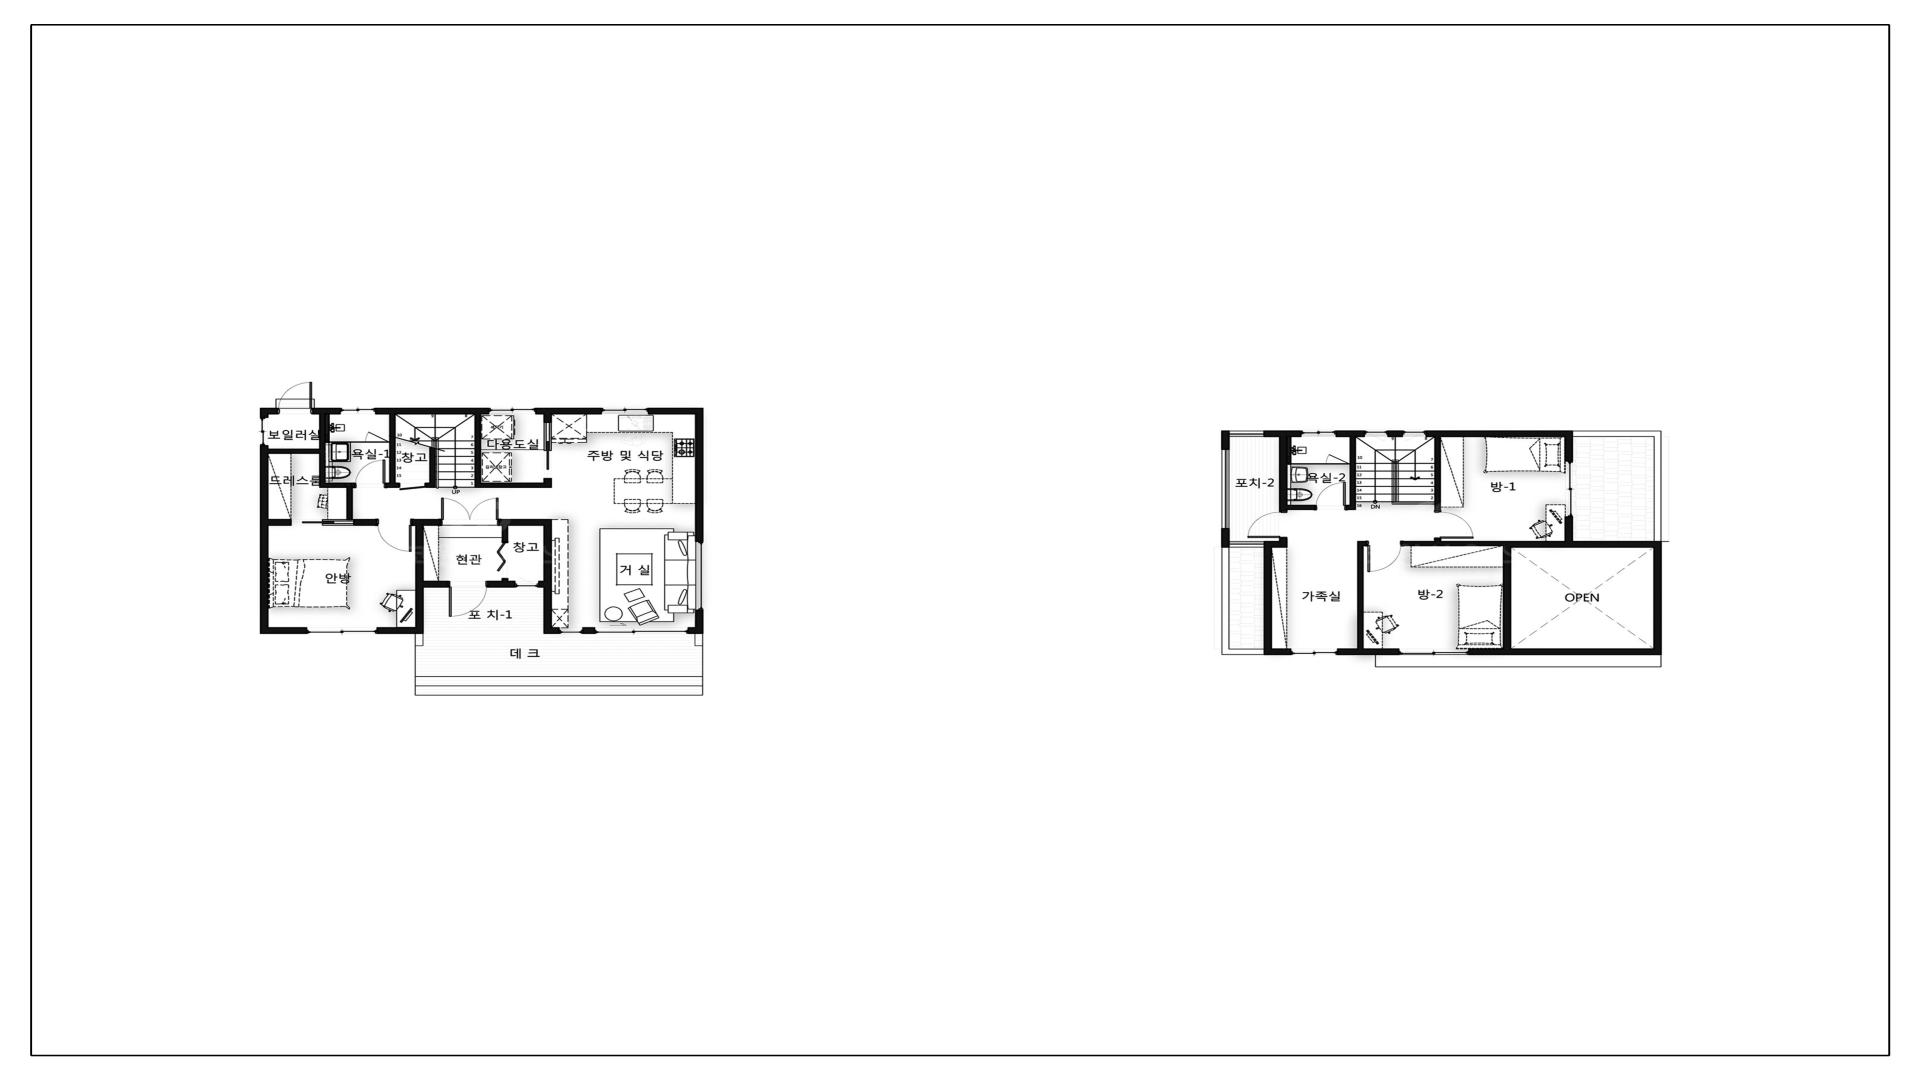door: (441, 497, 499, 526), (448, 581, 488, 617), (376, 519, 412, 552), (1434, 510, 1474, 539), (277, 382, 313, 414), (1367, 541, 1402, 572), (1247, 511, 1287, 538), (355, 459, 386, 488), (1315, 482, 1346, 510), (543, 423, 552, 478), (292, 519, 355, 526), (496, 542, 508, 578), (365, 432, 389, 443), (1326, 454, 1350, 464)
wall: (260, 445, 307, 634), (1503, 541, 1565, 649), (377, 581, 448, 634), (1565, 517, 1662, 548), (1264, 538, 1287, 648), (1469, 648, 1653, 655), (538, 581, 559, 634), (1357, 541, 1367, 648), (386, 414, 400, 488), (1426, 430, 1573, 437), (695, 414, 703, 542), (1653, 548, 1662, 655), (1402, 538, 1503, 546), (1346, 437, 1356, 510), (481, 478, 552, 488), (375, 408, 489, 414), (1279, 437, 1287, 511), (319, 414, 326, 488), (474, 414, 481, 488), (1434, 437, 1441, 510), (424, 446, 436, 488), (543, 526, 552, 581), (415, 526, 424, 581), (1337, 648, 1399, 655), (535, 408, 602, 414), (688, 610, 704, 634), (499, 519, 552, 526), (648, 408, 703, 414), (1264, 430, 1301, 437), (268, 449, 319, 454), (488, 578, 515, 587), (346, 488, 353, 519), (412, 519, 441, 526), (1336, 430, 1364, 437), (1565, 437, 1573, 461), (1264, 648, 1291, 655), (1221, 431, 1230, 450), (1221, 528, 1230, 547), (260, 408, 277, 418), (313, 408, 340, 414), (269, 519, 292, 526), (355, 519, 376, 526), (326, 483, 355, 488), (1287, 505, 1315, 510), (501, 526, 508, 542), (1388, 430, 1402, 437), (583, 627, 595, 634), (543, 414, 552, 423), (325, 441, 365, 443), (1287, 463, 1326, 464)
window: (1221, 450, 1230, 528), (595, 627, 688, 634), (695, 541, 704, 610), (1399, 648, 1469, 655), (307, 627, 377, 634), (1565, 461, 1573, 517), (1291, 648, 1338, 655), (602, 408, 648, 414), (489, 408, 535, 414), (1402, 430, 1426, 441), (1364, 430, 1388, 441), (1301, 430, 1336, 437), (260, 418, 269, 445), (1230, 541, 1264, 548), (340, 408, 375, 414), (1230, 431, 1264, 437), (559, 627, 583, 634), (515, 581, 538, 588)
